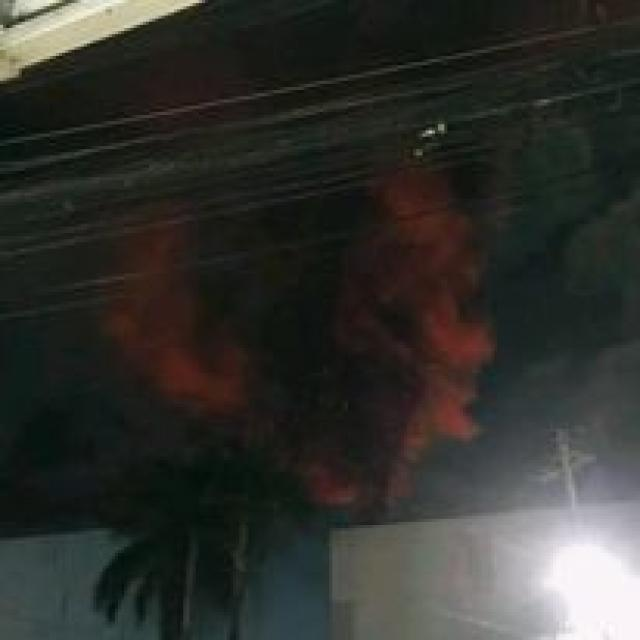Fire: (378, 189, 502, 452)
Smoke: (255, 241, 482, 511), (113, 228, 270, 406)
